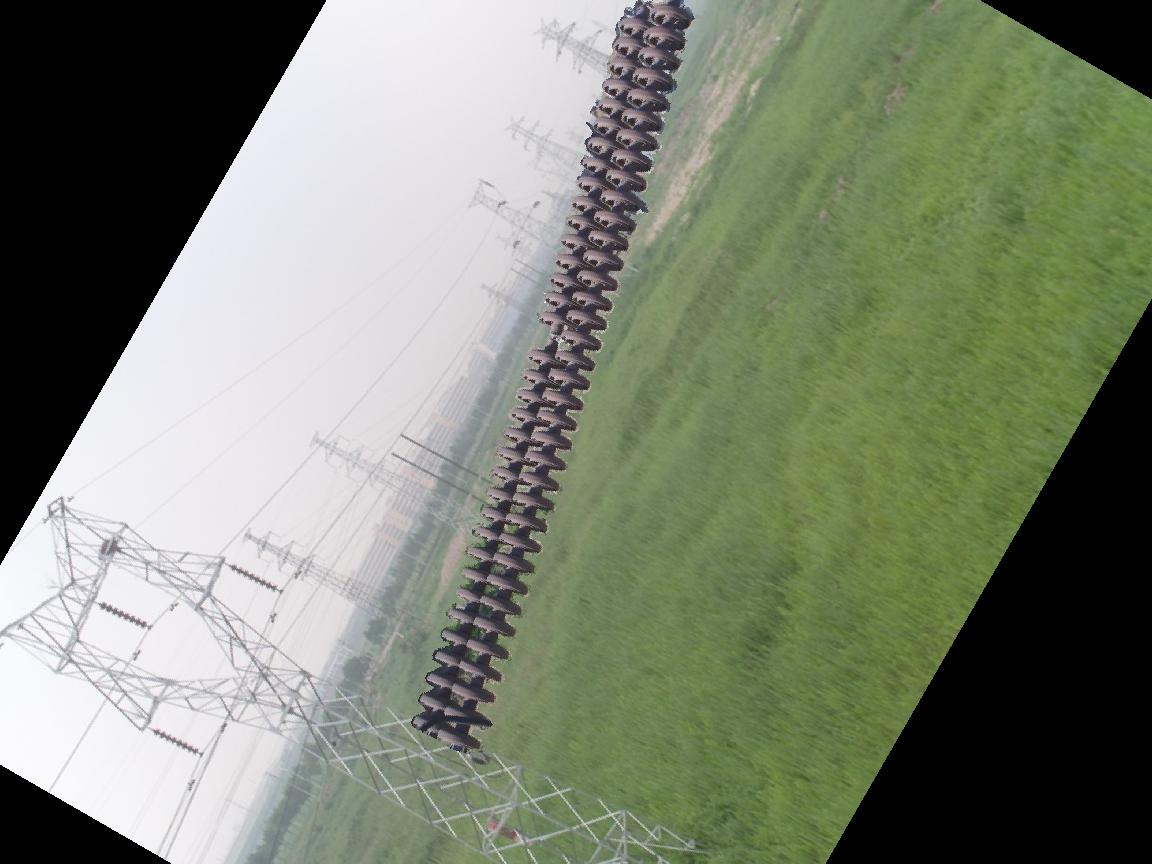insulator: (401, 1, 699, 757), (223, 558, 284, 600), (146, 723, 201, 758), (94, 598, 149, 632)
insulator_stringdrop: (528, 304, 572, 371)
